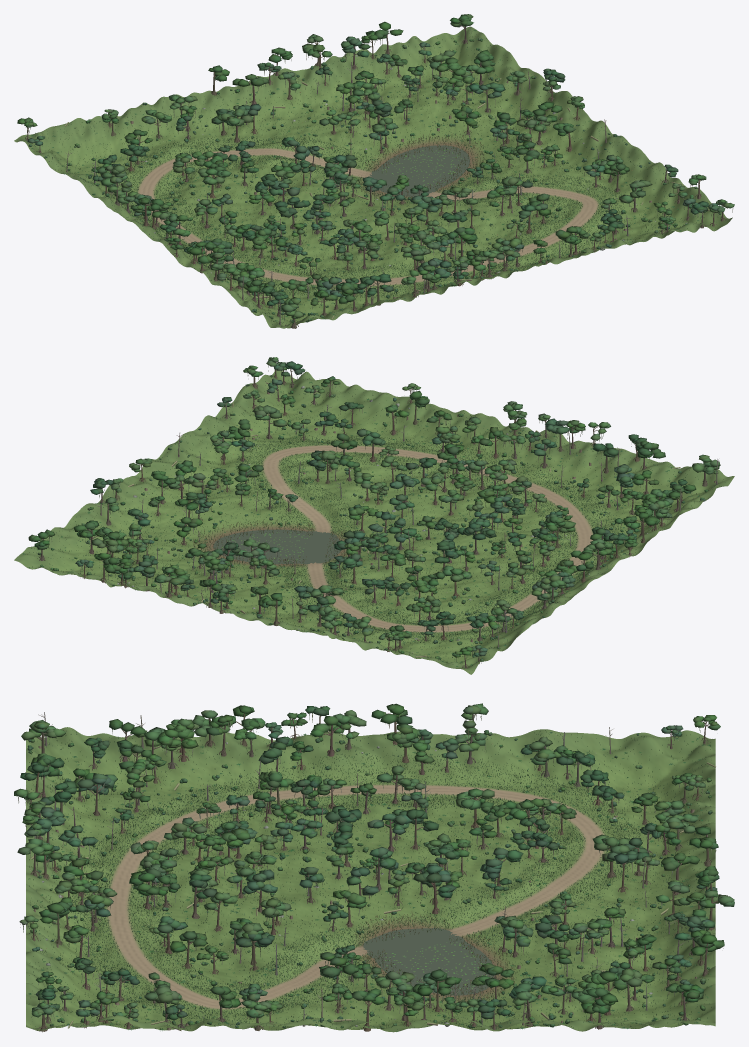
File: pantano_estrada.glb
3 views of the same model, one above another, from view 1: azimuth 30°, elevation 25°; view 2: azimuth 150°, elevation 25°; view 3: azimuth 270°, elevation 25° (orthographic). The views are drawn at different scales.
Parts seen in each view (by area): view 1: Chao, Lago, Vegetacao_2_1, Vegetacao_1_2, Vegetacao_2_5, Vegetacao_4_5, Vegetacao_0_3, Vegetacao_3_5, Vegetacao_5_4, Vegetacao_4_1, Vegetacao_5_3, Vegetacao_4_4 (+27 smaller); view 2: Chao, Lago, Vegetacao_2_0, Vegetacao_2_1, Vegetacao_1_2, Vegetacao_0_3, Vegetacao_1_0, Vegetacao_2_3, Vegetacao_5_3, Vegetacao_2_5, Vegetacao_4_1, Vegetacao_5_1 (+27 smaller); view 3: Chao, Lago, Vegetacao_0_3, Vegetacao_0_1, Vegetacao_1_2, Vegetacao_2_1, Vegetacao_0_2, Vegetacao_2_5, Vegetacao_1_0, Vegetacao_4_1, Vegetacao_2_0, Vegetacao_2_3 (+27 smaller).
Part boxes in pixels (x1=…): Chao: x1=14, y1=26, x2=732, y2=328; Lago: x1=368, y1=145, x2=469, y2=197; Vegetacao_2_1: x1=353, y1=206, x2=463, y2=278; Vegetacao_1_2: x1=218, y1=197, x2=339, y2=264; Vegetacao_2_5: x1=168, y1=65, x2=283, y2=150; Vegetacao_4_5: x1=321, y1=21, x2=432, y2=106; Vegetacao_0_3: x1=100, y1=176, x2=221, y2=242; Vegetacao_3_5: x1=250, y1=34, x2=363, y2=131; Vegetacao_5_4: x1=442, y1=49, x2=565, y2=130; Vegetacao_4_1: x1=487, y1=176, x2=608, y2=239; Vegetacao_5_3: x1=486, y1=81, x2=593, y2=156; Vegetacao_4_4: x1=353, y1=75, x2=479, y2=152; Chao: x1=14, y1=369, x2=734, y2=674; Lago: x1=213, y1=529, x2=341, y2=564; Vegetacao_2_0: x1=462, y1=401, x2=585, y2=489; Vegetacao_2_1: x1=420, y1=457, x2=535, y2=518; Vegetacao_1_2: x1=457, y1=511, x2=575, y2=572; Vegetacao_0_3: x1=484, y1=549, x2=594, y2=615; Vegetacao_1_0: x1=546, y1=422, x2=665, y2=508; Vegetacao_2_3: x1=330, y1=517, x2=442, y2=586; Vegetacao_5_3: x1=108, y1=458, x2=219, y2=535; Vegetacao_2_5: x1=250, y1=585, x2=353, y2=637; Vegetacao_4_1: x1=278, y1=428, x2=385, y2=484; Vegetacao_5_1: x1=198, y1=397, x2=310, y2=465; Chao: x1=26, y1=727, x2=715, y2=1032; Lago: x1=363, y1=928, x2=494, y2=995; Vegetacao_0_3: x1=369, y1=703, x2=488, y2=808; Vegetacao_0_1: x1=135, y1=705, x2=265, y2=809; Vegetacao_1_2: x1=253, y1=771, x2=376, y2=856; Vegetacao_2_1: x1=130, y1=821, x2=276, y2=907; Vegetacao_0_2: x1=255, y1=706, x2=370, y2=808; Vegetacao_2_5: x1=592, y1=814, x2=718, y2=904; Vegetacao_1_0: x1=14, y1=753, x2=150, y2=858; Vegetacao_4_1: x1=141, y1=916, x2=274, y2=1001; Vegetacao_2_0: x1=17, y1=802, x2=140, y2=905; Vegetacao_2_3: x1=362, y1=833, x2=485, y2=911.
Size of the model in its own units: 247 by 28.36 by 251.
